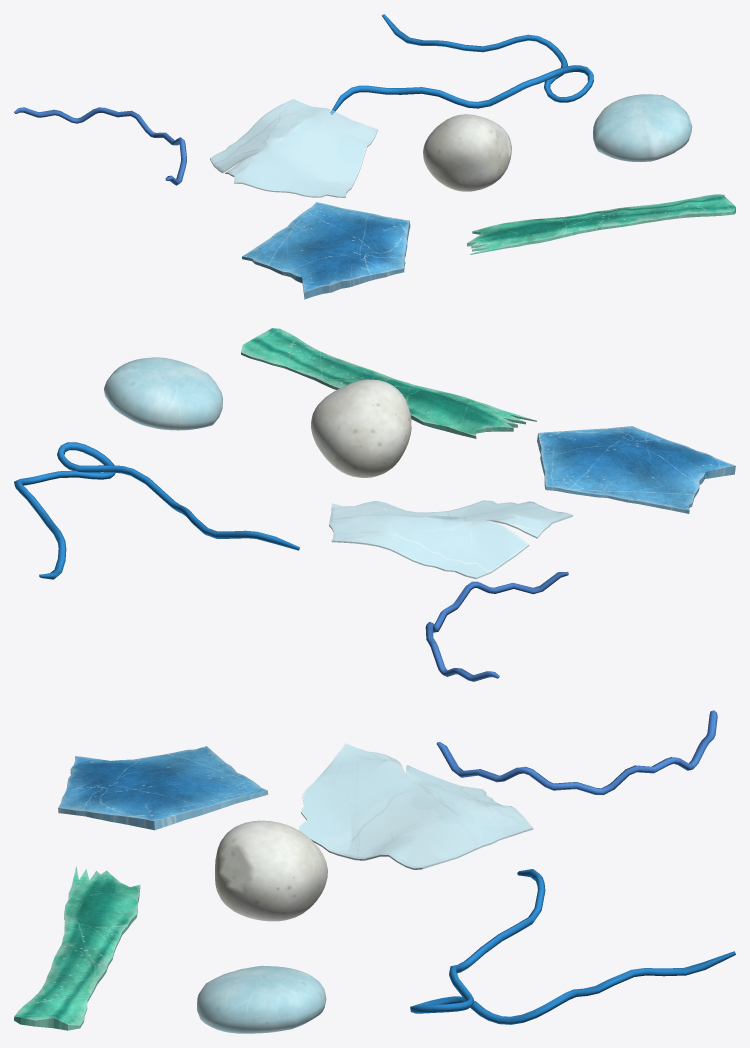
Rendered from semua.glb.
The picture shows the model from 3 angles, top to bottom: view 1: azimuth 30°, elevation 25°; view 2: azimuth 150°, elevation 25°; view 3: azimuth 270°, elevation 25°; orthographic projection. The views are drawn at different scales.
Parts seen in each view (by area): view 1: film_5, fragmen_1, fragmen_2, pelet_4, pelet_3, serat_6, serat_7; view 2: fragmen_1, film_5, fragmen_2, pelet_3, pelet_4, serat_6, serat_7; view 3: film_5, fragmen_1, fragmen_2, pelet_3, pelet_4, serat_6, serat_7.
Part boxes in pixels (x1,y1,x2,y2): film_5: (210,99,377,197); fragmen_1: (242,202,410,299); fragmen_2: (467,194,735,254); pelet_4: (593,94,692,161); pelet_3: (423,114,511,191); serat_6: (330,14,593,114); serat_7: (14,107,186,185); fragmen_1: (537,426,735,513); film_5: (329,500,572,579); fragmen_2: (241,328,536,438); pelet_3: (311,379,411,477); pelet_4: (104,357,222,430); serat_6: (14,442,299,579); serat_7: (425,572,568,681); film_5: (298,743,533,869); fragmen_1: (58,746,268,830); fragmen_2: (14,866,140,1030); pelet_3: (215,820,327,921); pelet_4: (197,965,326,1033); serat_6: (410,869,735,1024); serat_7: (436,710,717,795).
Bounding box in the file's own units: 0.3795 × 0.0512 × 0.3661.
Materials: 7 (7 with a texture image).
